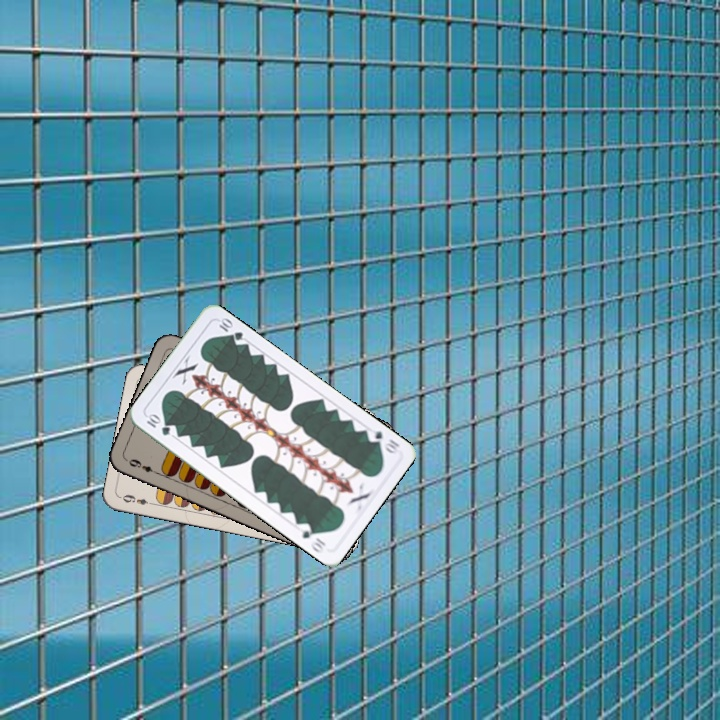E9: (125, 455, 162, 477), (119, 490, 157, 508)
G10: (362, 424, 403, 456), (142, 409, 173, 438)
